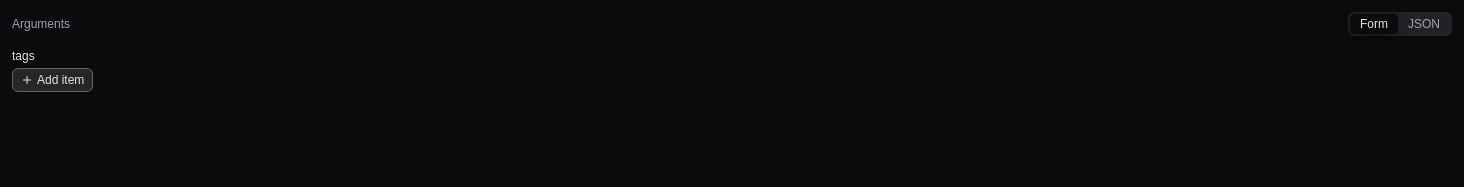
array of primitives › adds items, edits them and removes one
The image size is (1464, 187).
Click the button with aria-label "add item to tags".
click(53, 80)  # box [12,68,93,92]
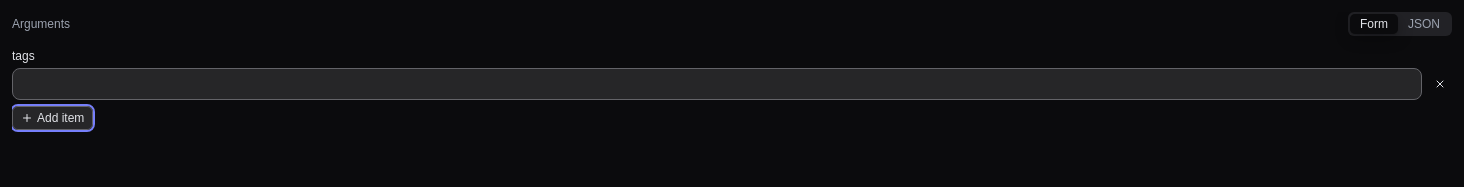
Click the button with aria-label "add item to tags".
click(53, 118)  # box [12,106,93,130]
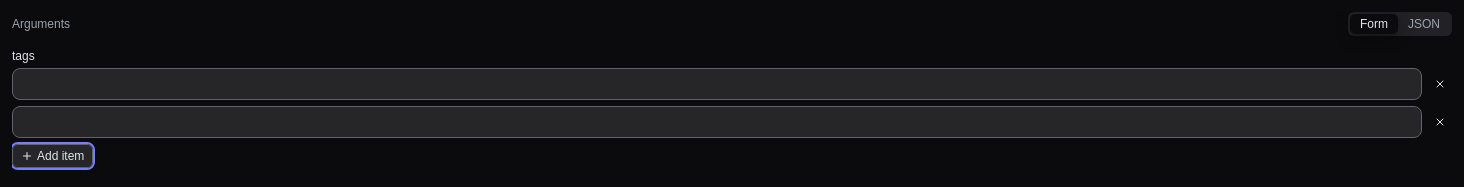
Type "red" into the field named "tags item 1".
click(717, 84); type("red")  # box [12,68,1422,100]
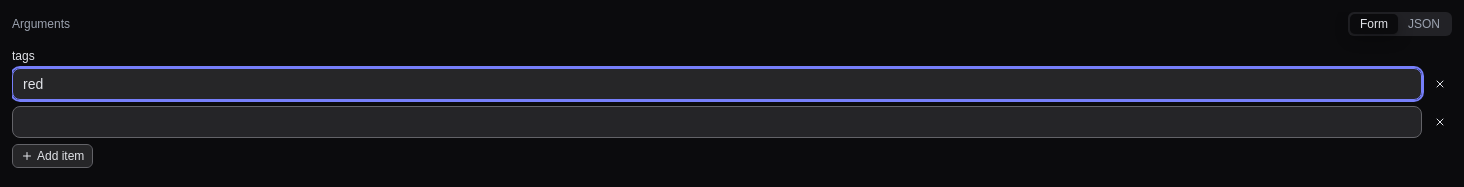
Type "blue" into the field named "tags item 2".
click(717, 122); type("blue")  # box [12,106,1422,138]
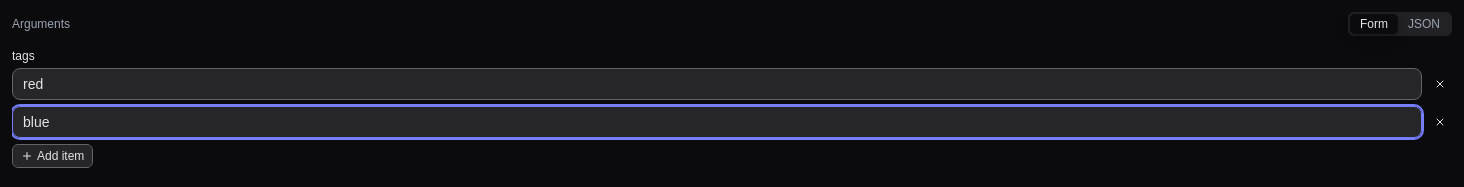
Click the button named "Remove tags item 1".
click(1440, 84)  # box [1428,72,1452,96]
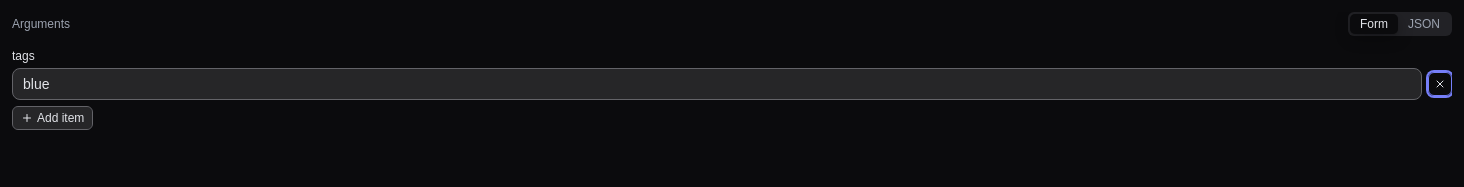
Expected: the field named "tags item 1" holds "blue", [12,68,1422,100]
